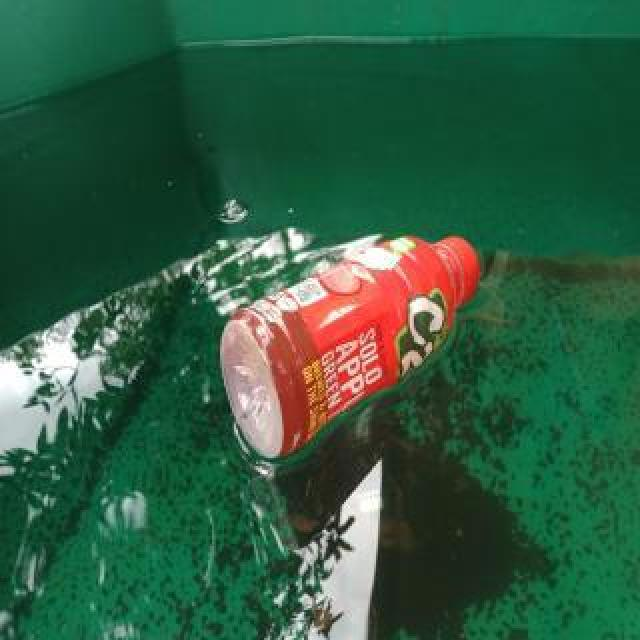bottle: (219, 229, 481, 459)
